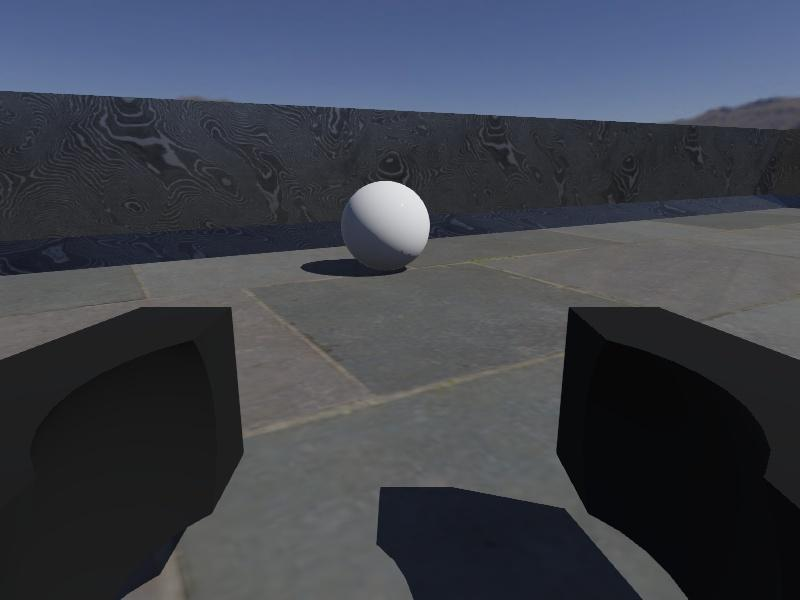white ball: (339, 179, 432, 272)
